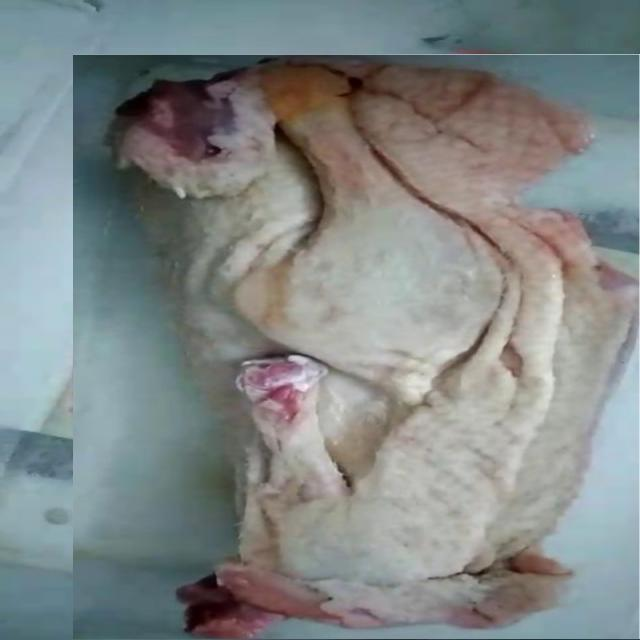chicken: (73, 54, 640, 639)
